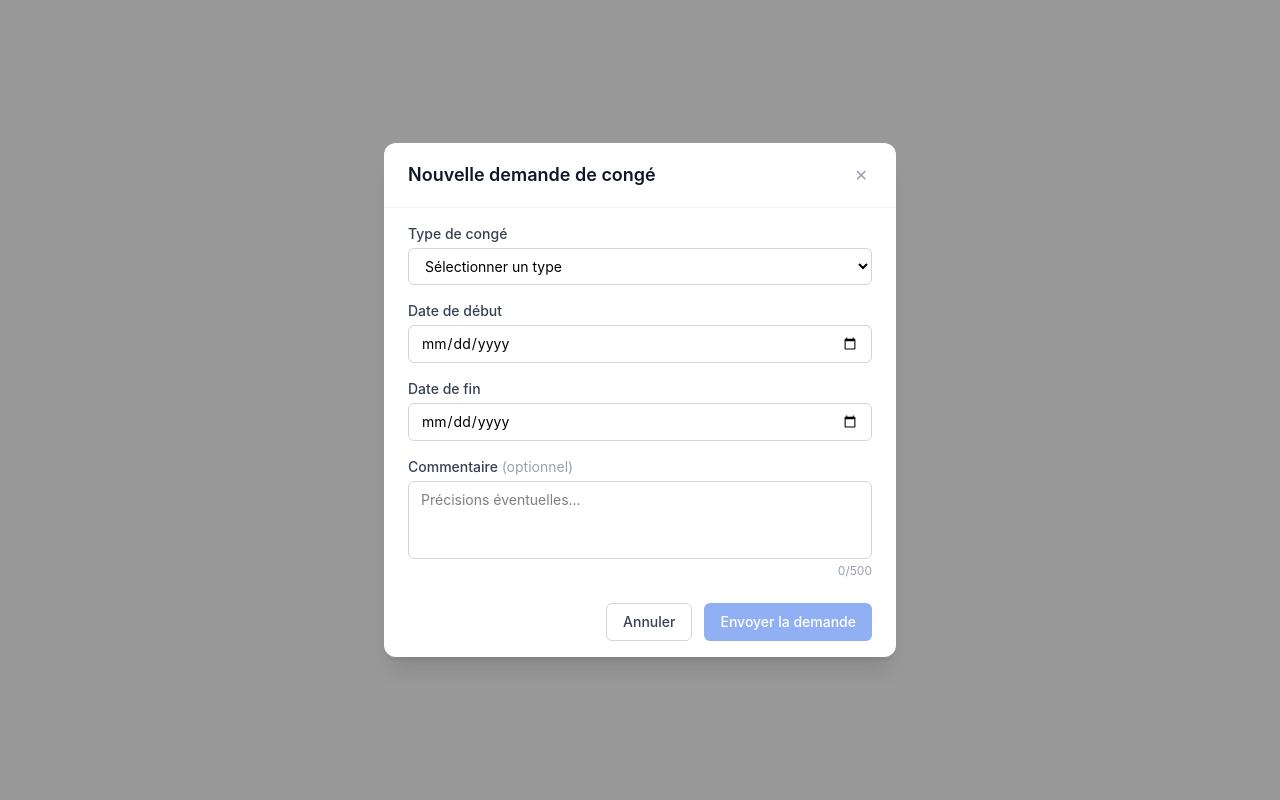
LeaveRequestForm › daysCount computed › shows "Durée : 5 jours" for a 5-day range
Type "2026-07-01" into the date field with id "start-date" at (640, 344), box x1=408 y1=325 x2=872 y2=363
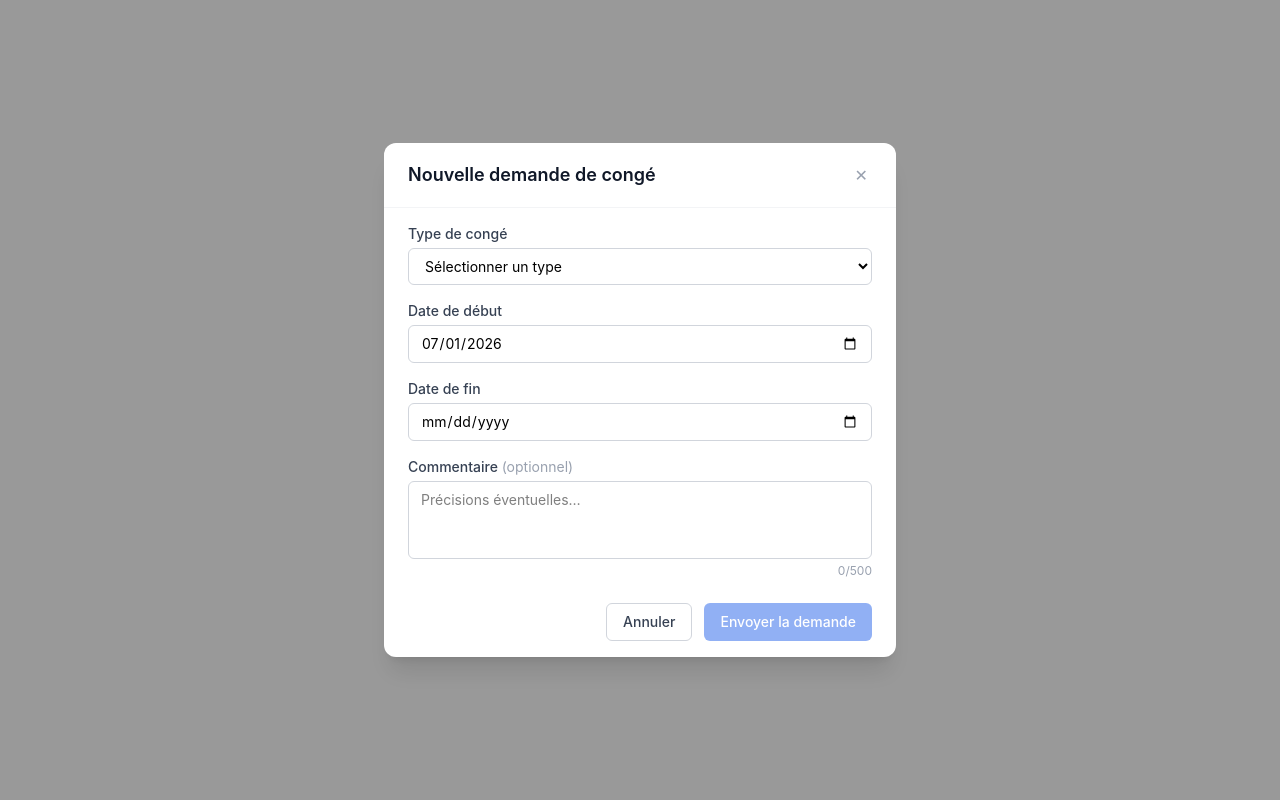
Type "2026-07-05" into the date field with id "end-date" at (640, 422), box x1=408 y1=403 x2=872 y2=441
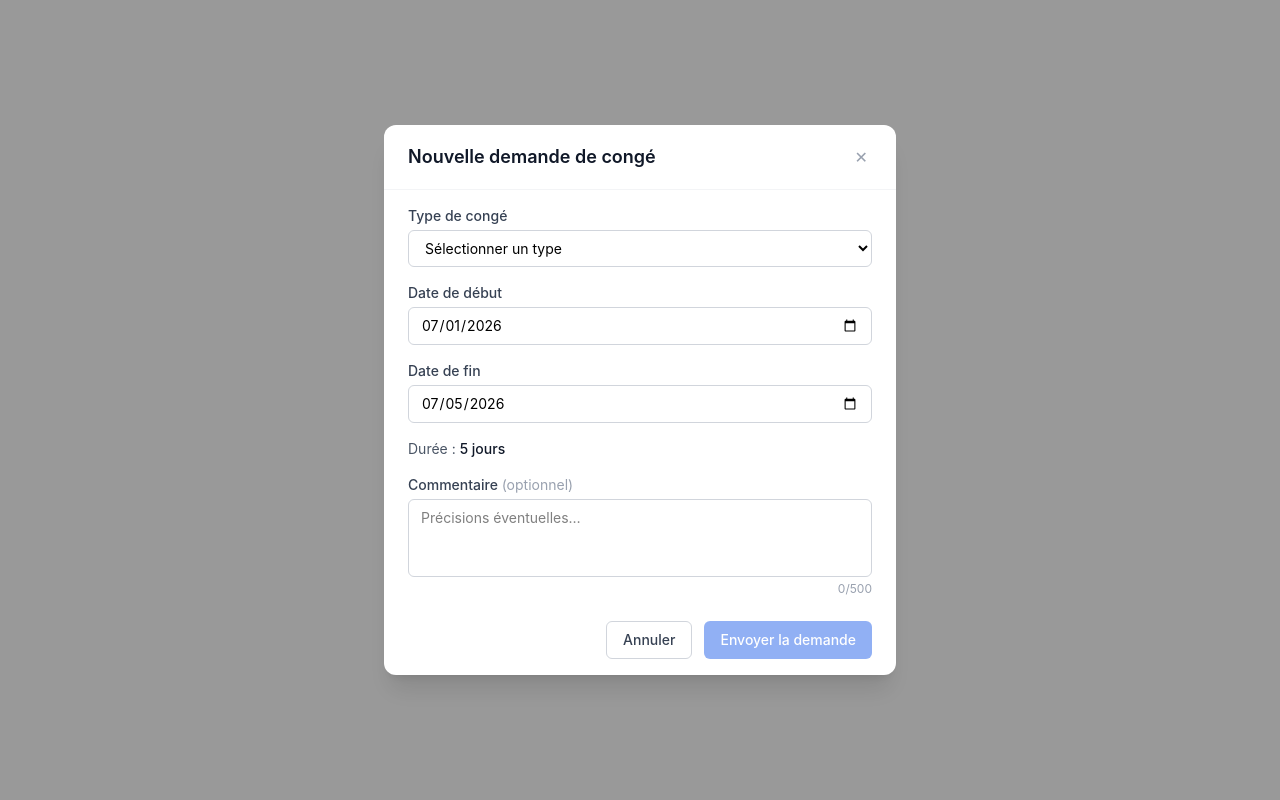
Check: the text "5 jours" is shown, box x1=460 y1=440 x2=505 y2=457
